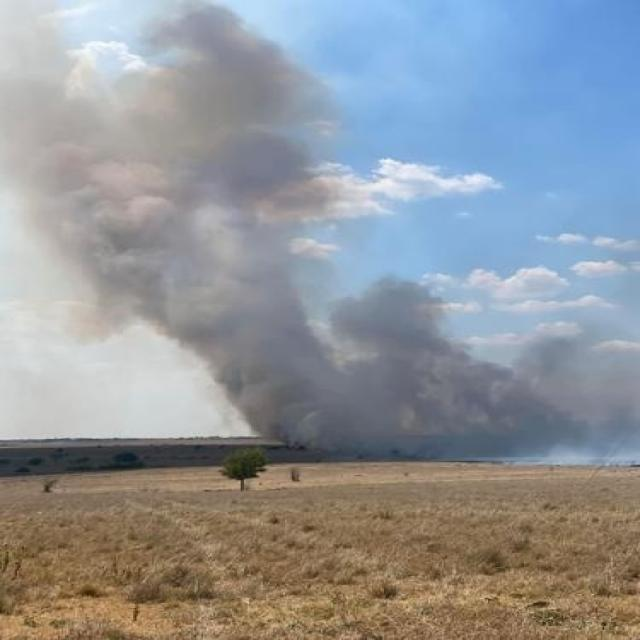Smoke: (0, 0, 584, 453)
